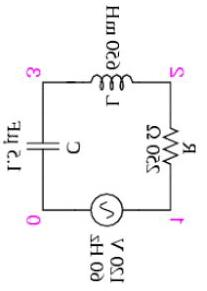inductor: (68, 66, 140, 105)
